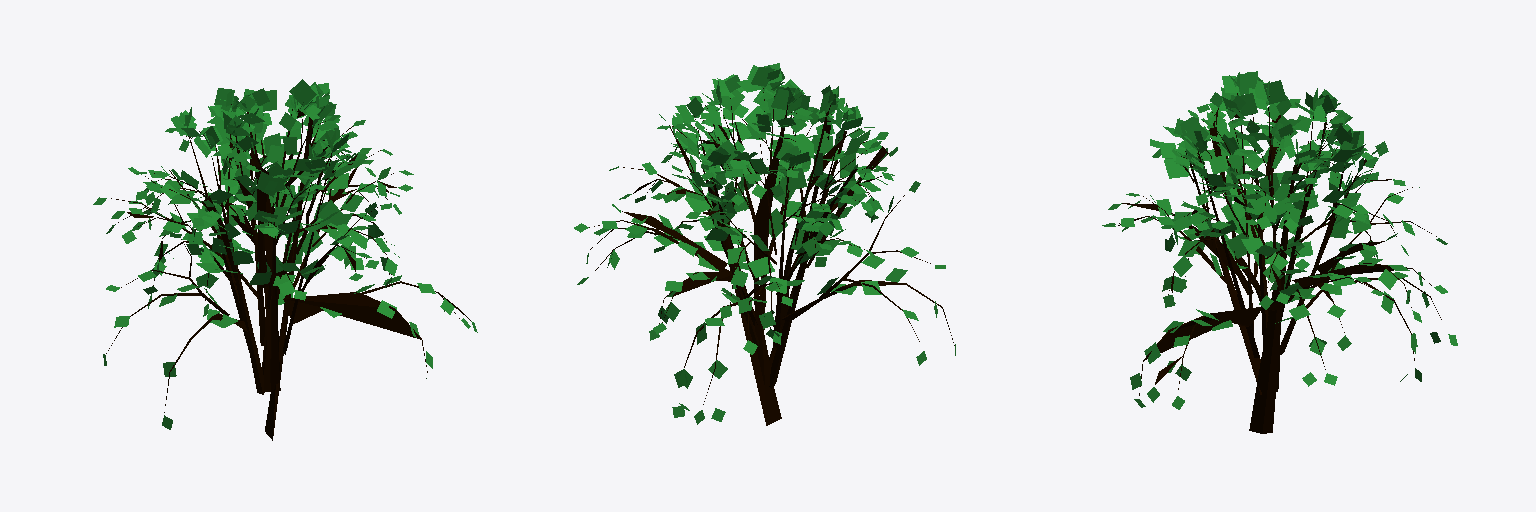
The model's file is tree1.obj.
3 views of the same model, side by side, from view 1: azimuth 30°, elevation 25°; view 2: azimuth 150°, elevation 25°; view 3: azimuth 270°, elevation 25° (orthographic).
Visible parts, largest first — view 1: leaves, tree; view 2: leaves, tree; view 3: leaves, tree.
Boxes of the visible parts, x1=… form: leaves: x1=93, y1=79, x2=477, y2=429; tree: x1=106, y1=104, x2=470, y2=440; leaves: x1=574, y1=63, x2=955, y2=424; tree: x1=589, y1=88, x2=954, y2=425; leaves: x1=1102, y1=71, x2=1457, y2=409; tree: x1=1118, y1=93, x2=1441, y2=433.
Bounding box in the file's own units: 5.41 × 5.46 × 5.07.